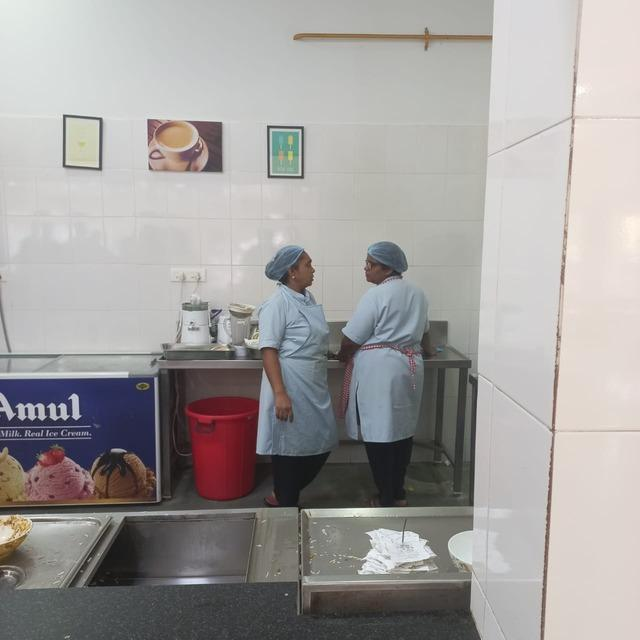bare_hand: (276, 395, 295, 426)
